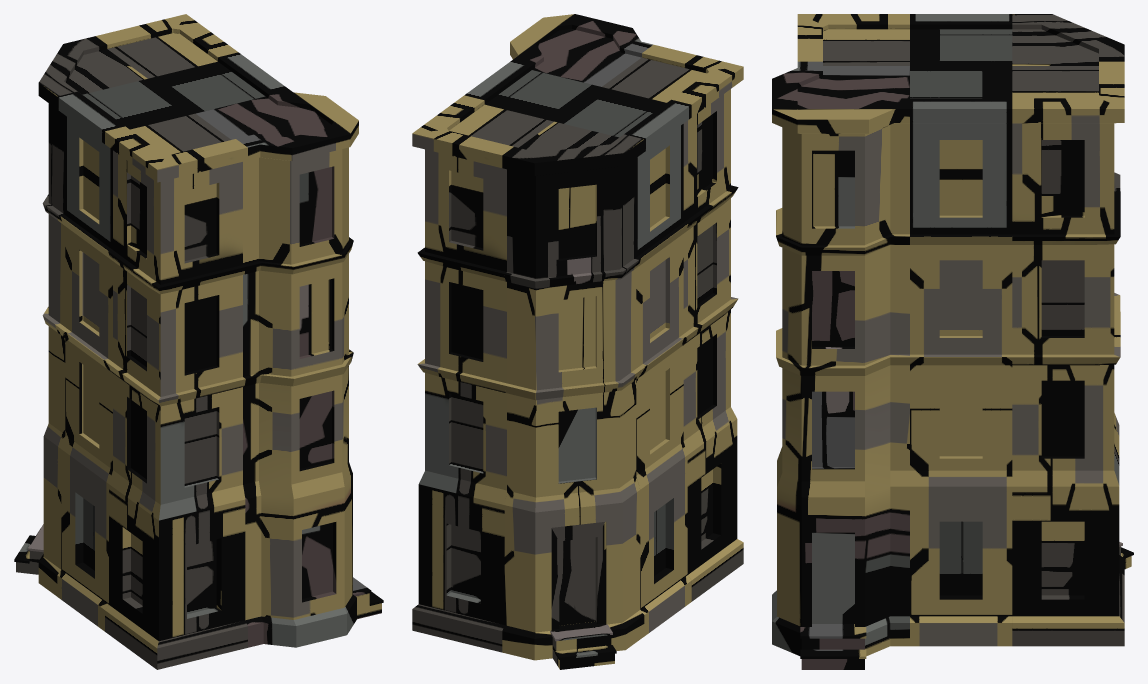
File: kamienica2-final.fbx
3 renders of one model, left to right at view 1: azimuth 30°, elevation 25°; view 2: azimuth 150°, elevation 25°; view 3: azimuth 270°, elevation 25°, orthographic. The views are drawn at different scales.
Visible parts, largest first — view 1: bok1.001, Plane, bok1.008, bok1.003, bok1.010, bok1.007; view 2: bok1.003, bok1.010, bok1.001, bok1.008, Plane, bok1.007; view 3: Plane, bok1.010, bok1.007, bok1.001, bok1.008, bok1.003.
Boxes of the visible parts, <box> form: bok1.001: <box>105,113,247,669</box>; Plane: <box>196,87,383,647</box>; bok1.008: <box>57,79,194,631</box>; bok1.003: <box>14,36,147,596</box>; bok1.010: <box>96,14,237,78</box>; bok1.007: <box>148,52,285,113</box>; bok1.003: <box>502,121,644,669</box>; bok1.010: <box>412,95,553,652</box>; bok1.001: <box>602,44,743,601</box>; bok1.008: <box>555,87,691,636</box>; Plane: <box>510,14,652,86</box>; bok1.007: <box>465,60,600,121</box>; Plane: <box>772,61,909,669</box>; bok1.010: <box>1012,61,1124,646</box>; bok1.007: <box>910,66,1012,646</box>; bok1.001: <box>797,14,909,65</box>; bok1.008: <box>910,14,1012,65</box>; bok1.003: <box>1012,14,1133,575</box>.
Bounding box in the file's own units: 571 × 1160 × 708.
